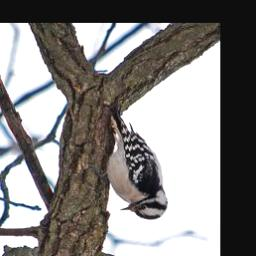Woodpecker: (91, 107, 169, 220)
